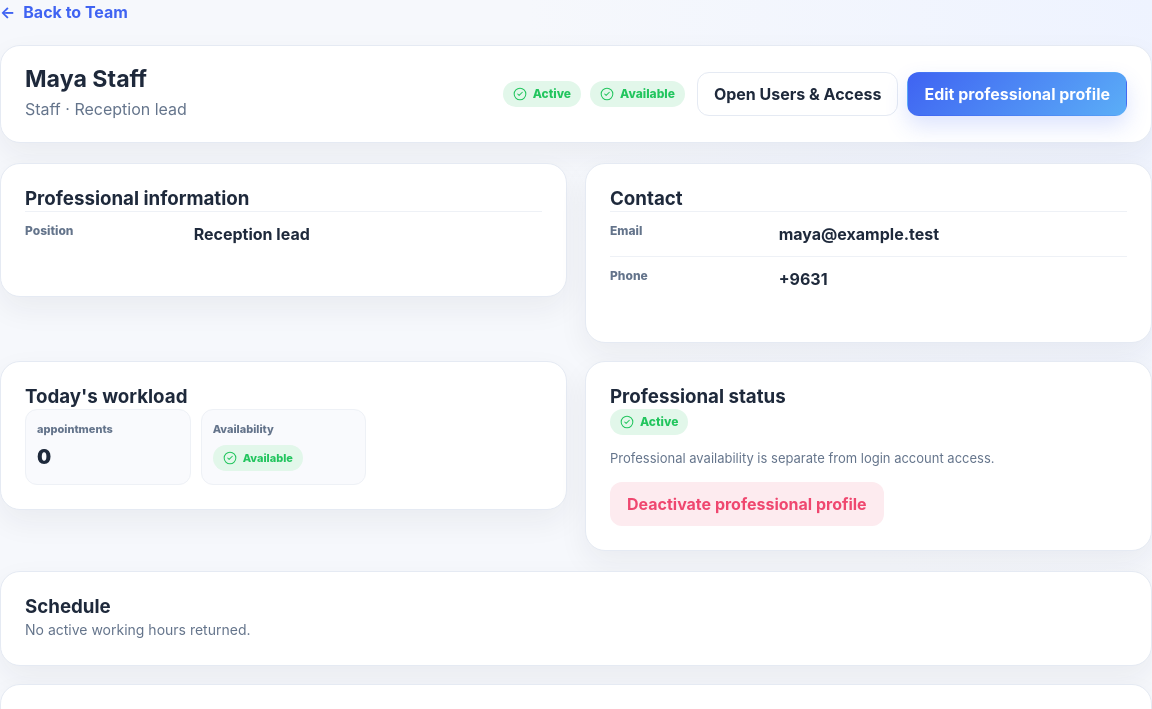
it: Team professional directory and detail › saves only Staff professional fields with version and returns to read mode
Click the button "Edit professional profile": (1017, 94) top-left (908, 72), bottom-right (1127, 116)
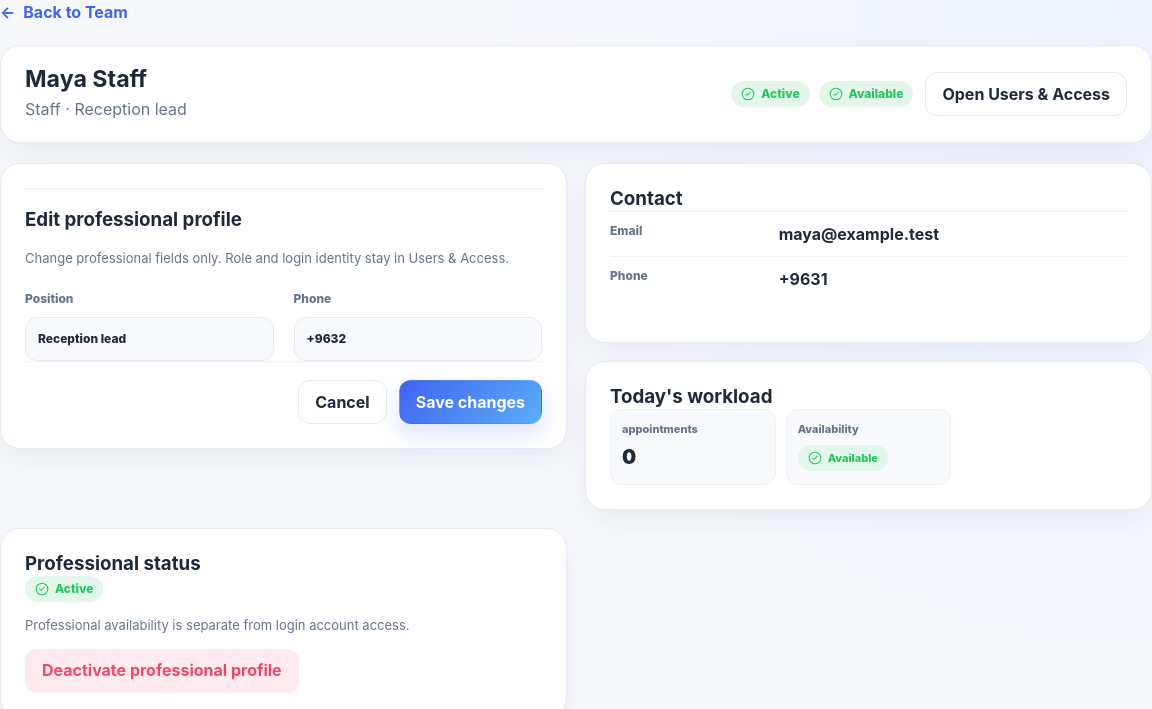
Replace the text in the field labelled "Position" with "Operations lead": (149, 339) top-left (25, 317), bottom-right (274, 361)
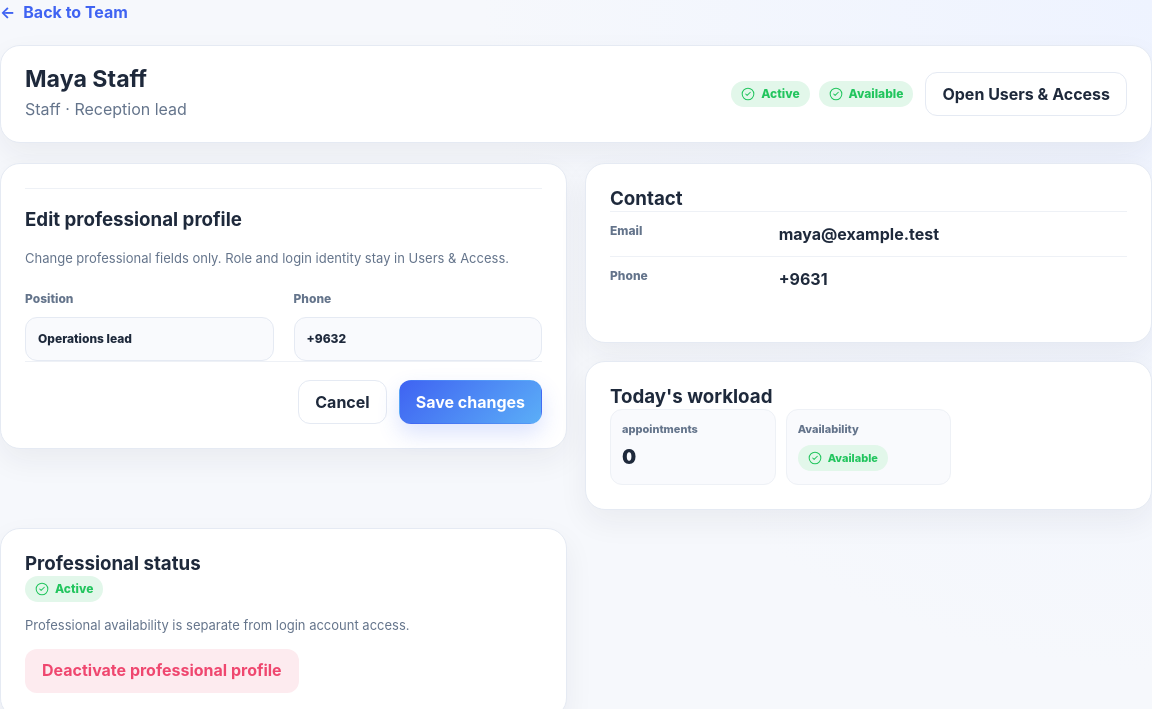
Replace the text in the field labelled "Phone" with "+9638": (418, 339) top-left (294, 317), bottom-right (542, 361)
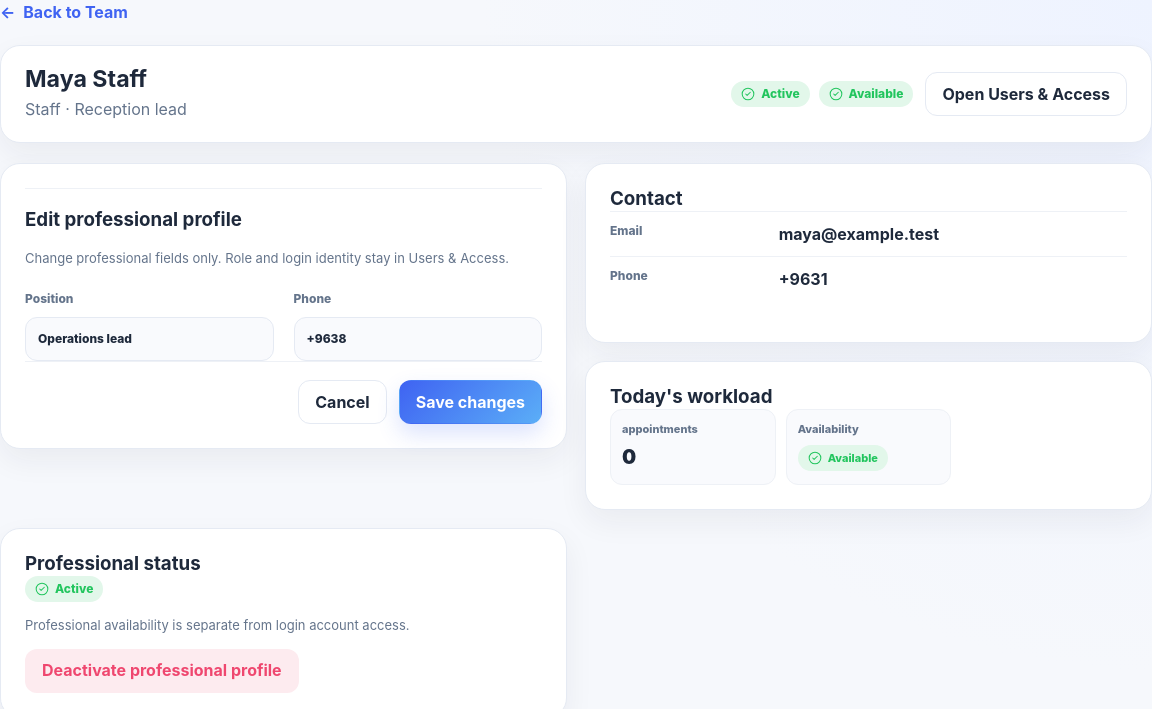
Click the button "Save changes": (470, 402) top-left (399, 380), bottom-right (542, 424)
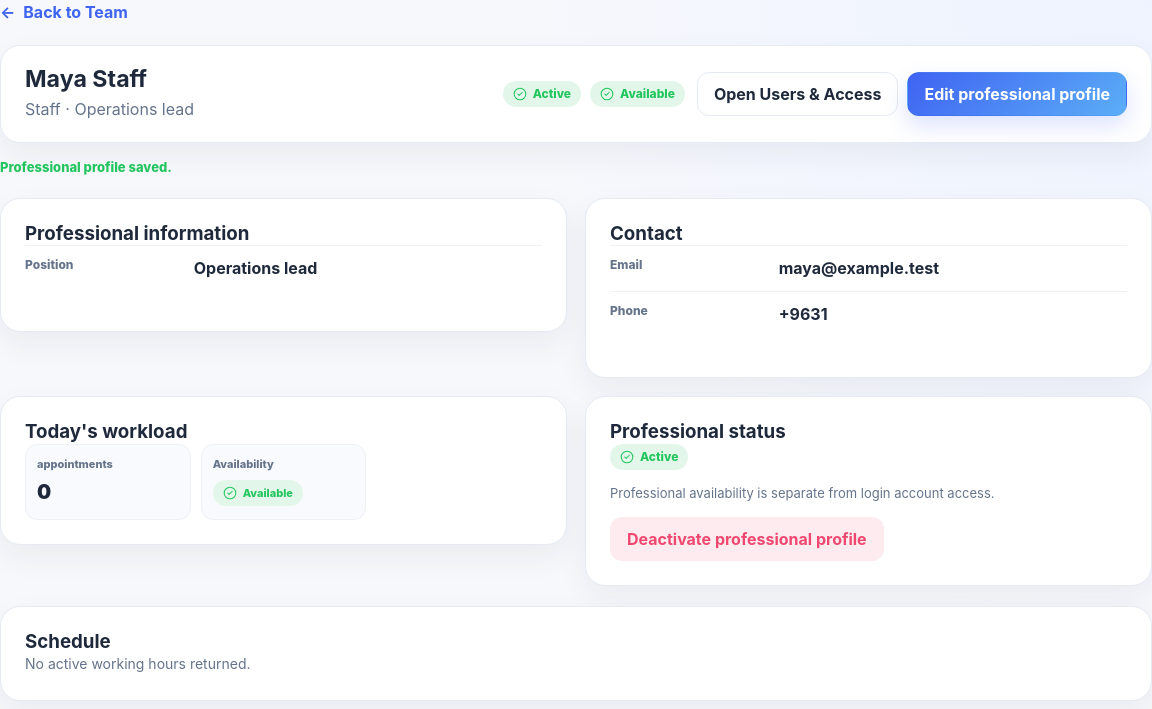
Result: the text "Operations lead" is shown at top-left (194, 258), bottom-right (317, 278)
